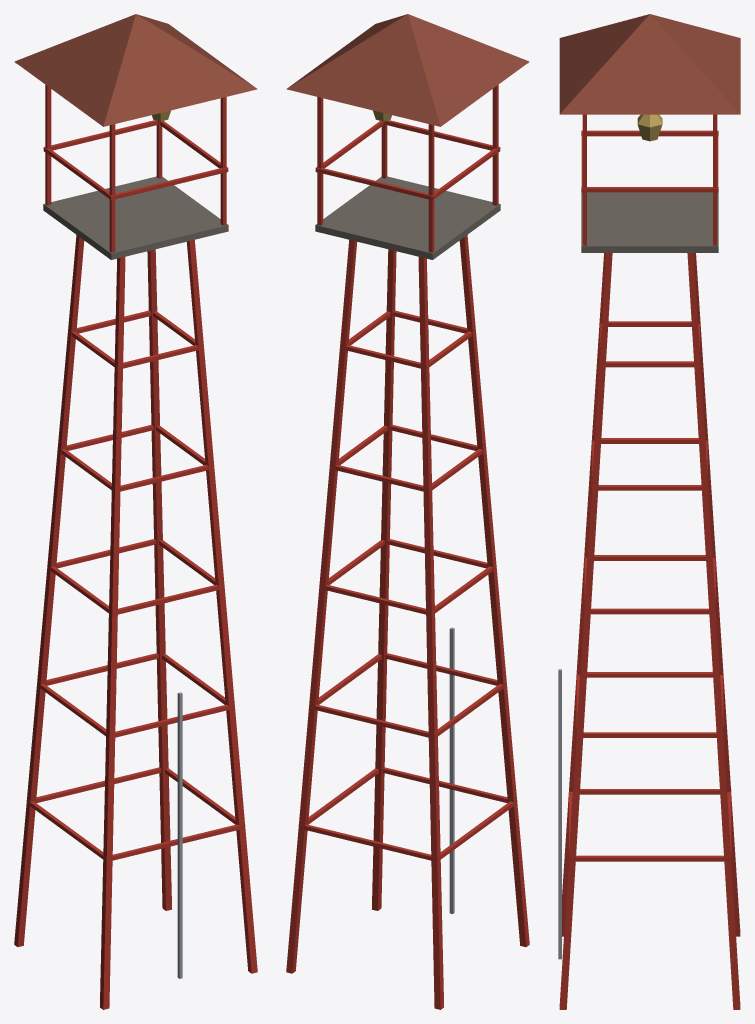
File: firetower.glb
The picture shows the model from 3 angles, left to right: view 1: azimuth 30°, elevation 25°; view 2: azimuth 150°, elevation 25°; view 3: azimuth 270°, elevation 25°; orthographic projection.
Parts seen in each view (by area): view 1: firetower; view 2: firetower; view 3: firetower.
Boxes of the visible parts, <box> form: firetower: <box>14,14,257,1009</box>; firetower: <box>286,14,529,1009</box>; firetower: <box>558,14,740,1009</box>.
Bounding box in the file's own units: 2.5 × 14.6 × 2.51.
